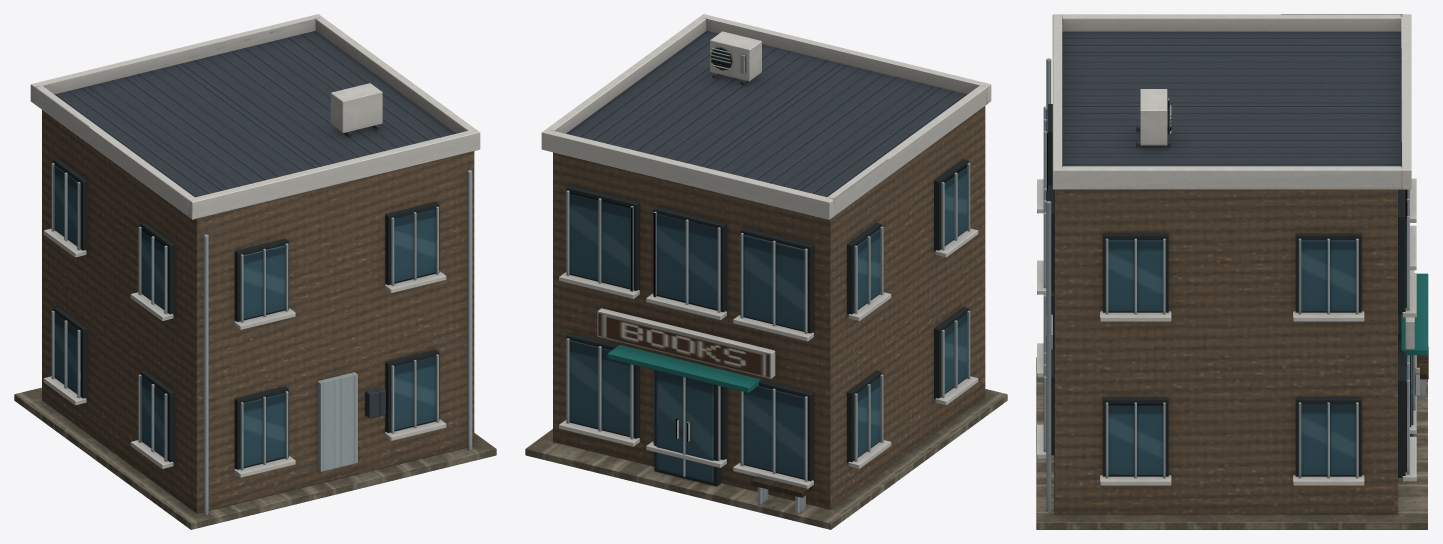
Rendered from public_004.obj.
3 renders of one model, left to right at view 1: azimuth 30°, elevation 25°; view 2: azimuth 150°, elevation 25°; view 3: azimuth 270°, elevation 25°, orthographic. The views are drawn at different scales.
Visible parts, largest first — view 1: public_004; view 2: public_004; view 3: public_004.
Part boxes in pixels (left/top/right/bottom): public_004: left=14, top=14, right=496, bottom=529; public_004: left=525, top=14, right=1007, bottom=529; public_004: left=1036, top=14, right=1428, bottom=529.
Size of the model in its own units: 6.5 by 7.02 by 6.51.
1 material, 1 textured.
